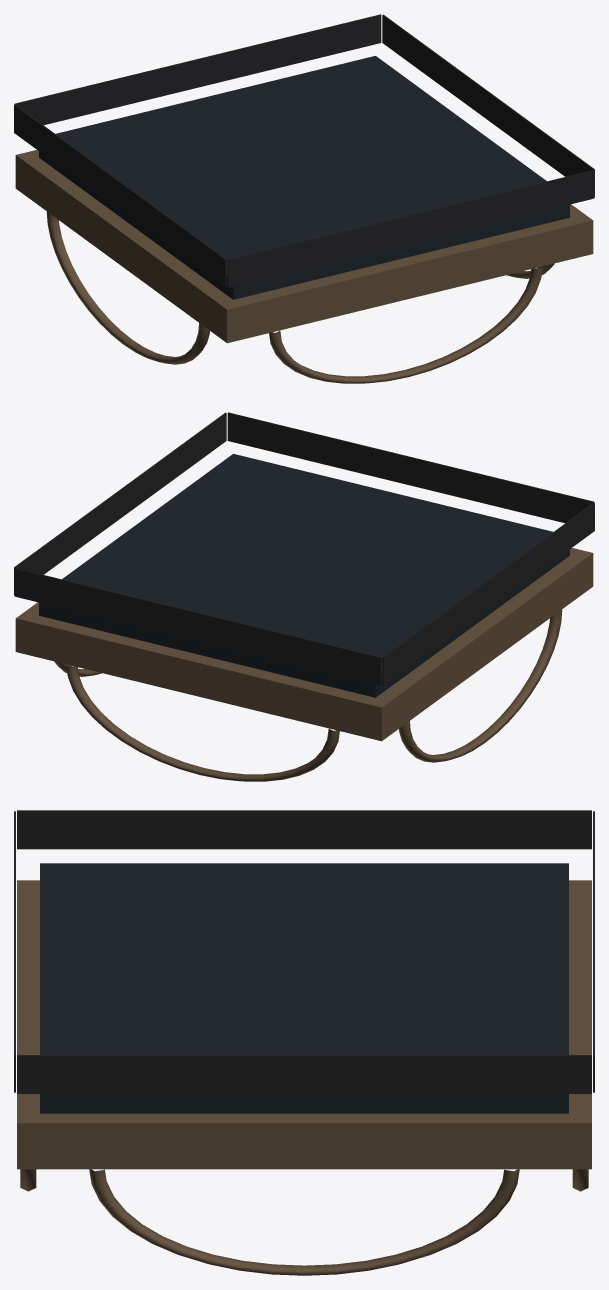
File: EIFFEL_DECK.glb
3 renders of one model, top to bottom at view 1: azimuth 30°, elevation 25°; view 2: azimuth 150°, elevation 25°; view 3: azimuth 270°, elevation 25°, orthographic. The views are drawn at different scales.
Visible parts, largest first — view 1: glass_1, tread_2, paint_0; view 2: glass_1, tread_2, paint_0; view 3: glass_1, paint_0, tread_2.
Boxes of the visible parts, x1,y1,x2,y2 form: glass_1: (39, 56, 569, 299); tread_2: (14, 14, 594, 287); paint_0: (15, 150, 593, 383); glass_1: (39, 454, 569, 697); tread_2: (14, 412, 594, 685); paint_0: (15, 548, 593, 781); glass_1: (40, 863, 568, 1113); paint_0: (17, 880, 591, 1275); tread_2: (14, 810, 594, 1093).
Size of the model in its own units: 15.15 by 6.49 by 15.15.
